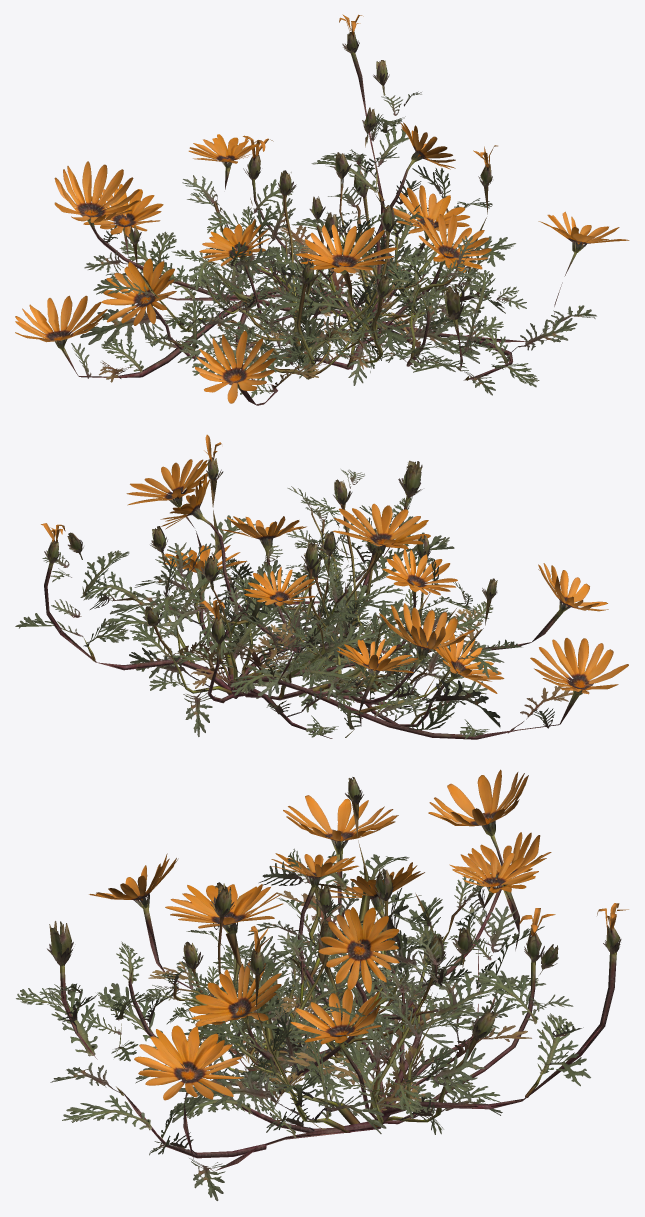
File: calendula-wild.glb
3 renders of one model, top to bottom at view 1: azimuth 30°, elevation 25°; view 2: azimuth 150°, elevation 25°; view 3: azimuth 270°, elevation 25°, orthographic. The views are drawn at different scales.
Parts seen in each view (by area): view 1: calendula-wild_a, calendula-wild_b, calendula-wild_c, calendula-wild_d, calendula-wild_e; view 2: calendula-wild_a, calendula-wild_b, calendula-wild_c, calendula-wild_d, calendula-wild_e; view 3: calendula-wild_a, calendula-wild_b, calendula-wild_c, calendula-wild_d, calendula-wild_e.
Boxes of the visible parts, box(x1,y1,x2,y2) form: calendula-wild_a: box(15, 14, 629, 405); calendula-wild_b: box(54, 135, 489, 371); calendula-wild_c: box(101, 122, 491, 385); calendula-wild_d: box(177, 170, 443, 382); calendula-wild_e: box(184, 231, 395, 385); calendula-wild_a: box(15, 434, 628, 739); calendula-wild_b: box(129, 507, 479, 736); calendula-wild_c: box(158, 474, 504, 726); calendula-wild_d: box(253, 479, 472, 712); calendula-wild_e: box(270, 608, 458, 712); calendula-wild_a: box(16, 777, 628, 1200); calendula-wild_b: box(97, 769, 555, 1134); calendula-wild_c: box(145, 862, 499, 1093); calendula-wild_d: box(188, 868, 456, 1097); calendula-wild_e: box(182, 938, 459, 1102).
Bounding box in the file's own units: 0.4254 × 0.1641 × 0.3433.
1 material, 1 textured.
